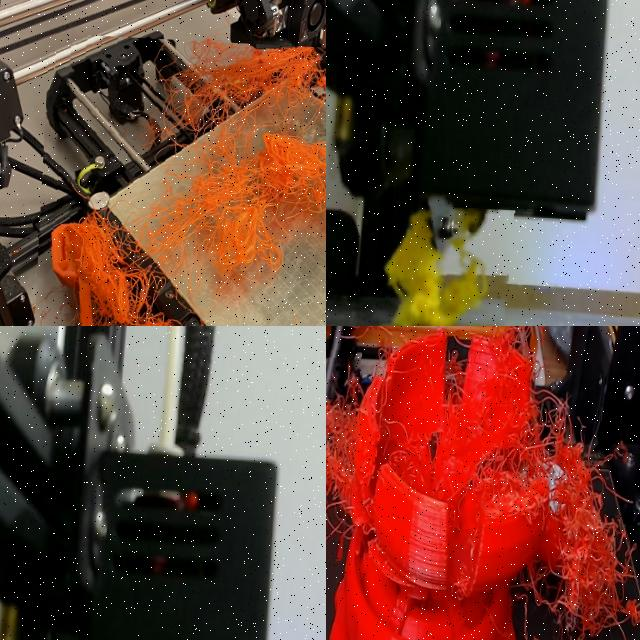spaghetti: (27, 33, 326, 326), (479, 352, 640, 640), (378, 204, 515, 326), (326, 346, 362, 567)
